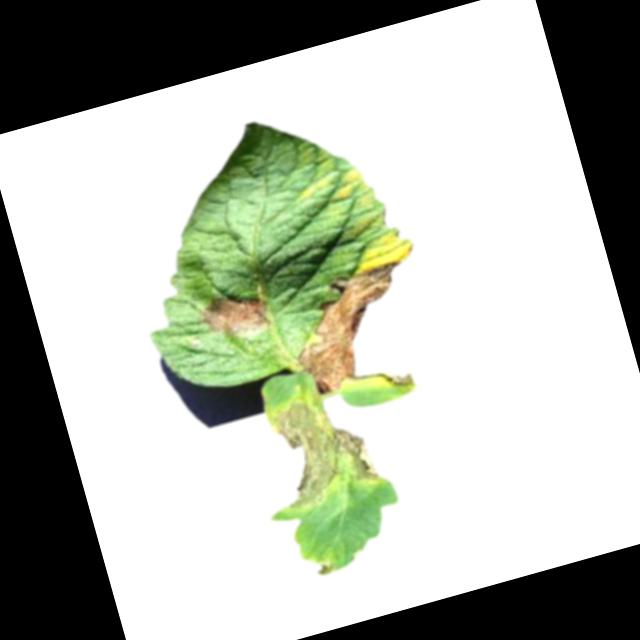Late_blight: (279, 254, 424, 399), (257, 380, 386, 517), (198, 286, 273, 346), (372, 362, 414, 394), (309, 552, 339, 578)
